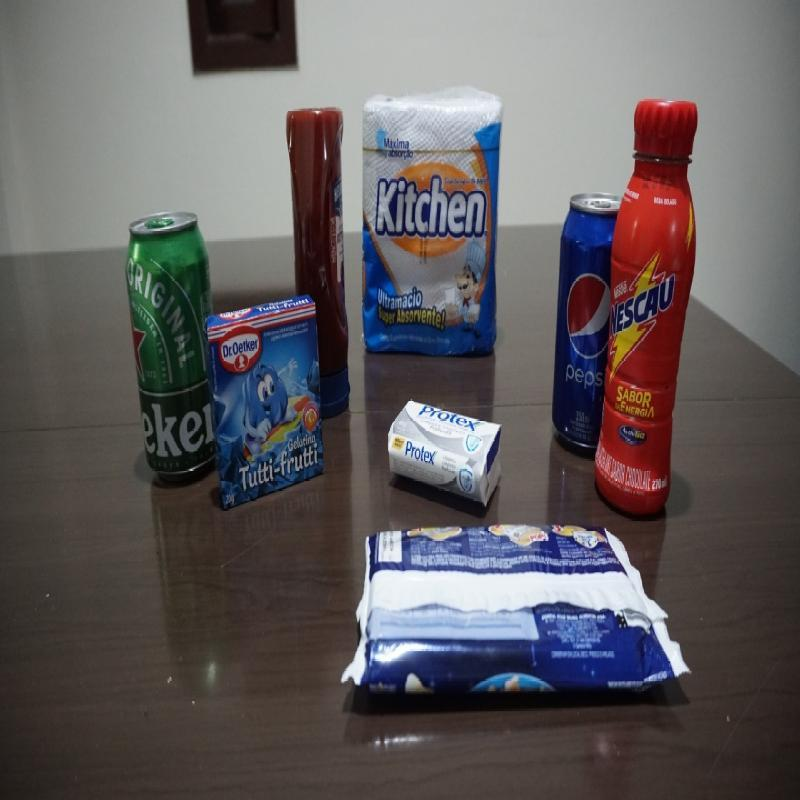Beer can: (125, 211, 214, 482)
Chocolate Milk: (593, 97, 699, 512)
Gelatine: (205, 296, 326, 510)
Ketchup: (284, 105, 352, 415)
Napkin: (360, 84, 502, 363)
Popcorn: (348, 524, 691, 705)
Soap: (389, 398, 502, 510)
Soda can: (552, 190, 621, 450)
